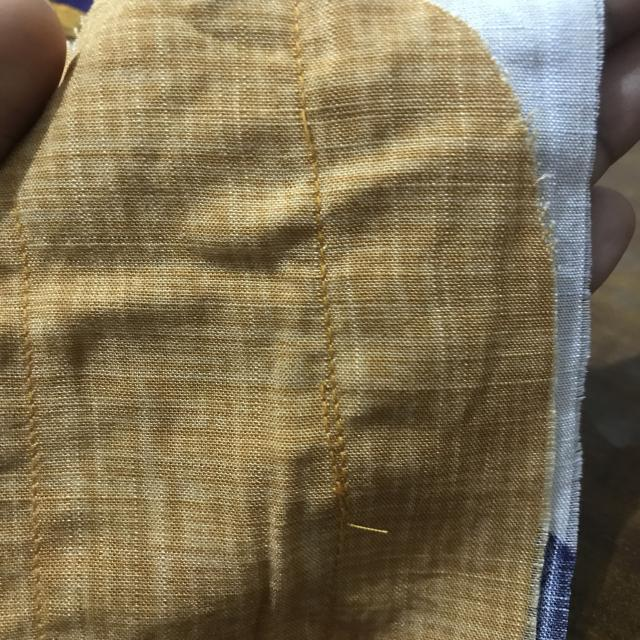good: (312, 233, 342, 346)
skip: (273, 97, 332, 166)
